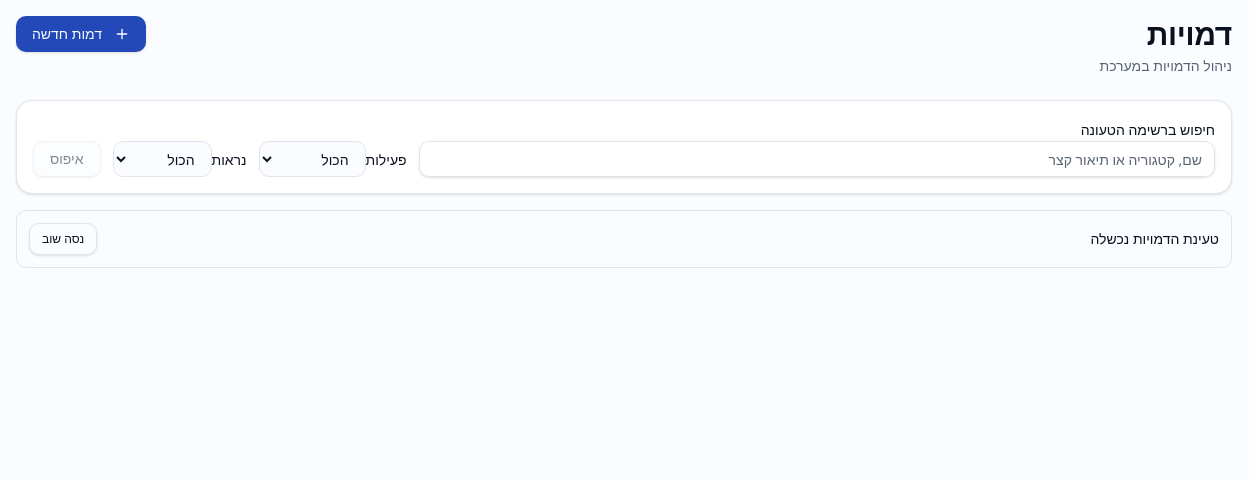
Test: admin character workspace › shows list failure instead of empty and retries the real list
Expected: the message shows "טעינת הדמויות נכשלה", [1090,229,1219,248]
Click the button with aria-label "נסה שוב לטעון דמויות" at [63, 239], box [29,223,97,255]
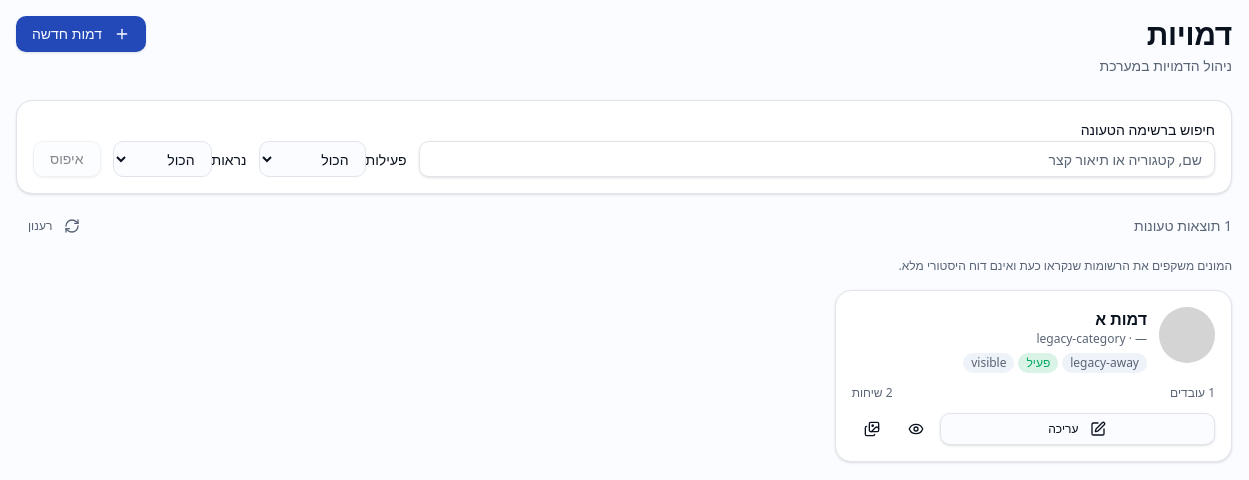
Expected: the text "דמות א" is shown, [1095,308,1147,330]
